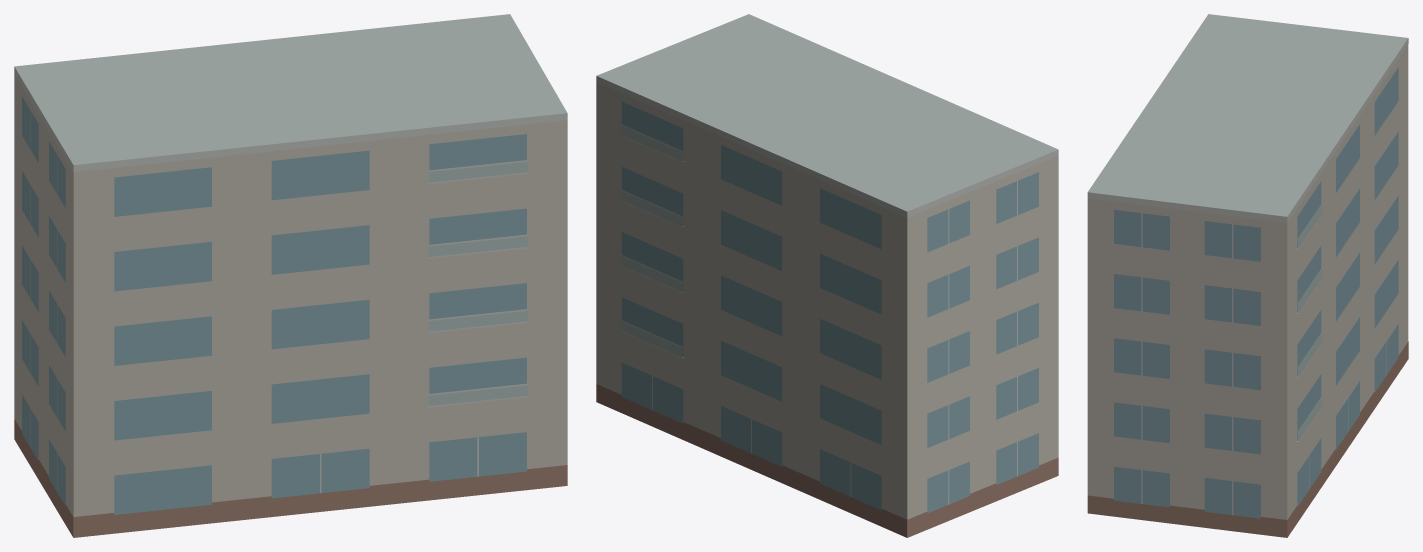
Rendered from survey-upis-32876141.glb.
The picture shows the model from 3 angles, left to right: view 1: azimuth 30°, elevation 25°; view 2: azimuth 150°, elevation 25°; view 3: azimuth 270°, elevation 25°; orthographic projection. The views are drawn at different scales.
Visible parts, largest first — view 1: survey-upis-32876141.tmp; view 2: survey-upis-32876141.tmp; view 3: survey-upis-32876141.tmp.
Boxes of the visible parts, x1,y1,x2,y2 form: survey-upis-32876141.tmp: (14,14,567,537); survey-upis-32876141.tmp: (596,14,1058,537); survey-upis-32876141.tmp: (1087,14,1408,537).
Size of the model in its own units: 17.76 by 13.1 by 11.88.
